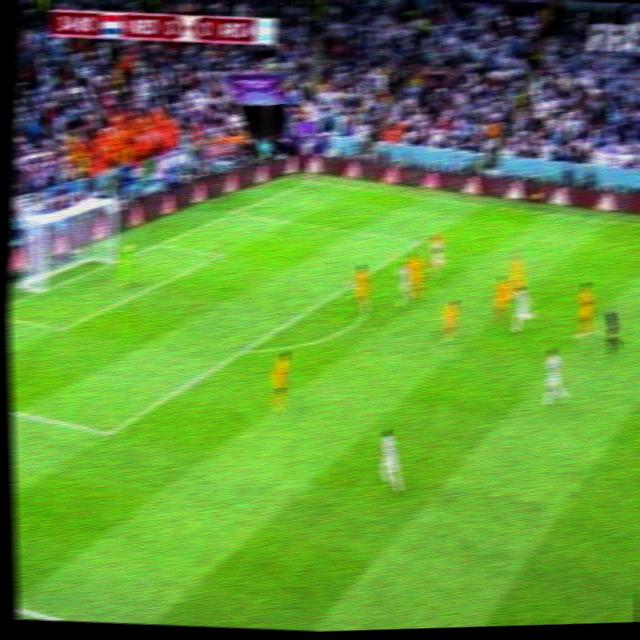bigarea_bottom_inner: (97, 421, 119, 444)
bigarea_top_inner: (410, 231, 428, 249)
bigarea_top_outter: (225, 204, 243, 221)
bottom_arc_area_intersection: (234, 338, 253, 358)
corner: (301, 173, 319, 187)
smallarea_bottom_inner: (48, 316, 71, 338)
smallarea_top_inner: (208, 245, 227, 265)
smallarea_top_outter: (149, 234, 167, 252)
top_arc_area_intersection: (341, 275, 358, 293)
